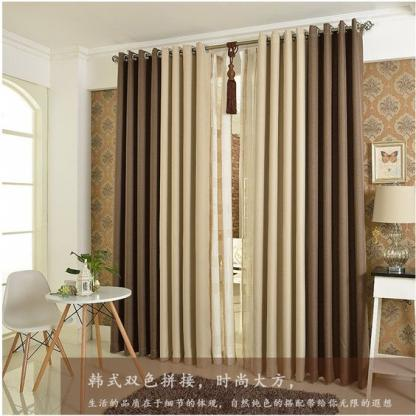Curtains: (111, 40, 375, 390)
